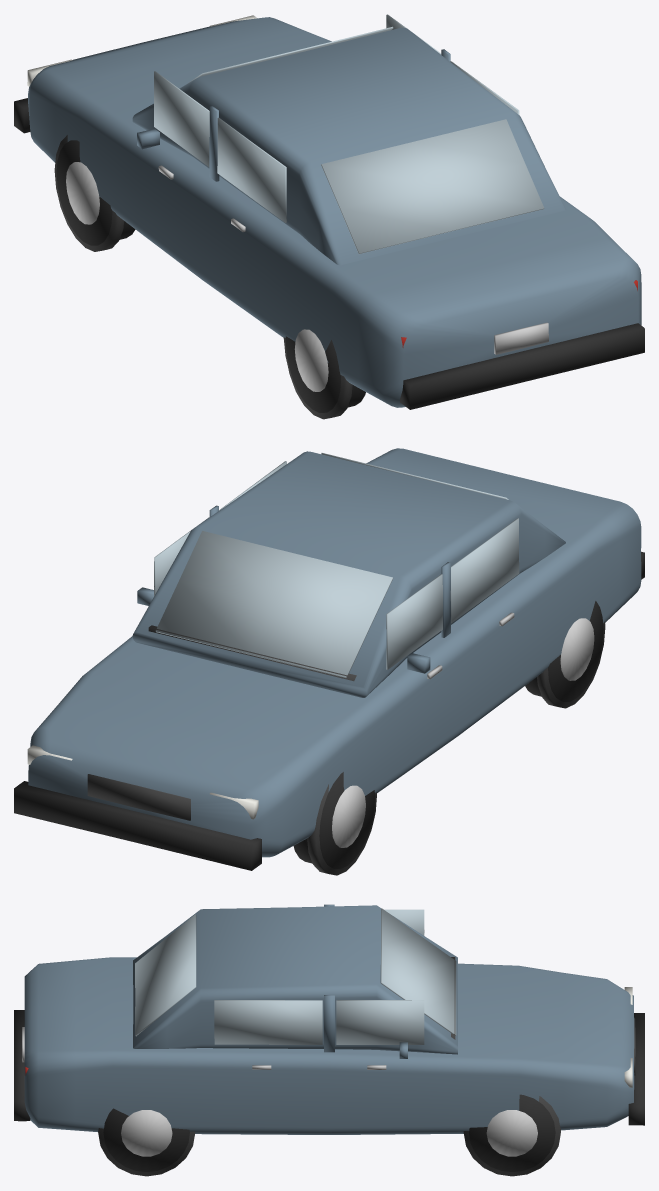
Rendered from SM_Car_Sedan_Abandoned.fbx.
3 renders of one model, top to bottom at view 1: azimuth 30°, elevation 25°; view 2: azimuth 150°, elevation 25°; view 3: azimuth 270°, elevation 25°, orthographic. The views are drawn at different scales.
Parts seen in each view (by area): view 1: SM_Car_Sedan_Abandoned; view 2: SM_Car_Sedan_Abandoned; view 3: SM_Car_Sedan_Abandoned.
Boxes of the visible parts, <box> form: SM_Car_Sedan_Abandoned: <box>14,14,644,419</box>; SM_Car_Sedan_Abandoned: <box>14,448,644,875</box>; SM_Car_Sedan_Abandoned: <box>14,904,644,1176</box>.
Size of the model in its own units: 1.96 by 1.47 by 4.66.
